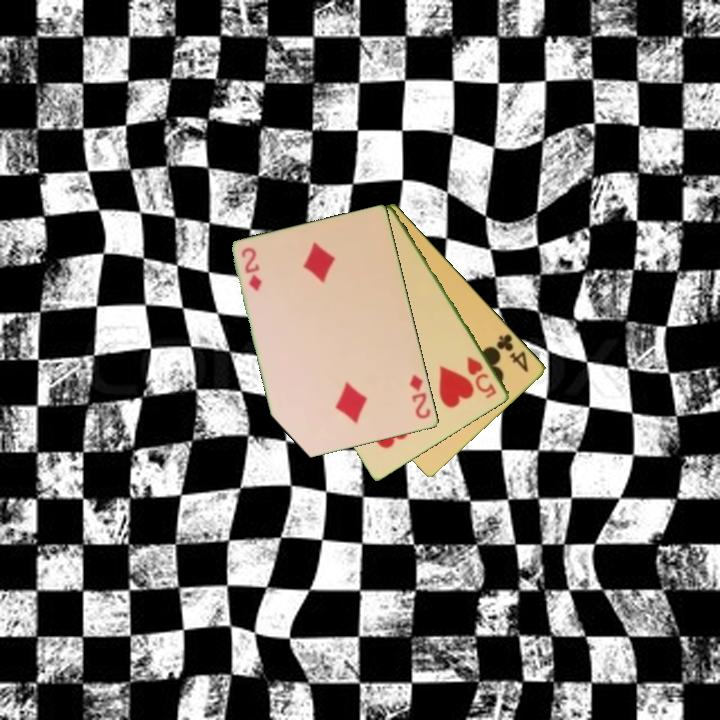2d: (406, 371, 434, 422), (238, 244, 265, 294)
4c: (493, 330, 532, 375)
5h: (463, 353, 500, 402)
